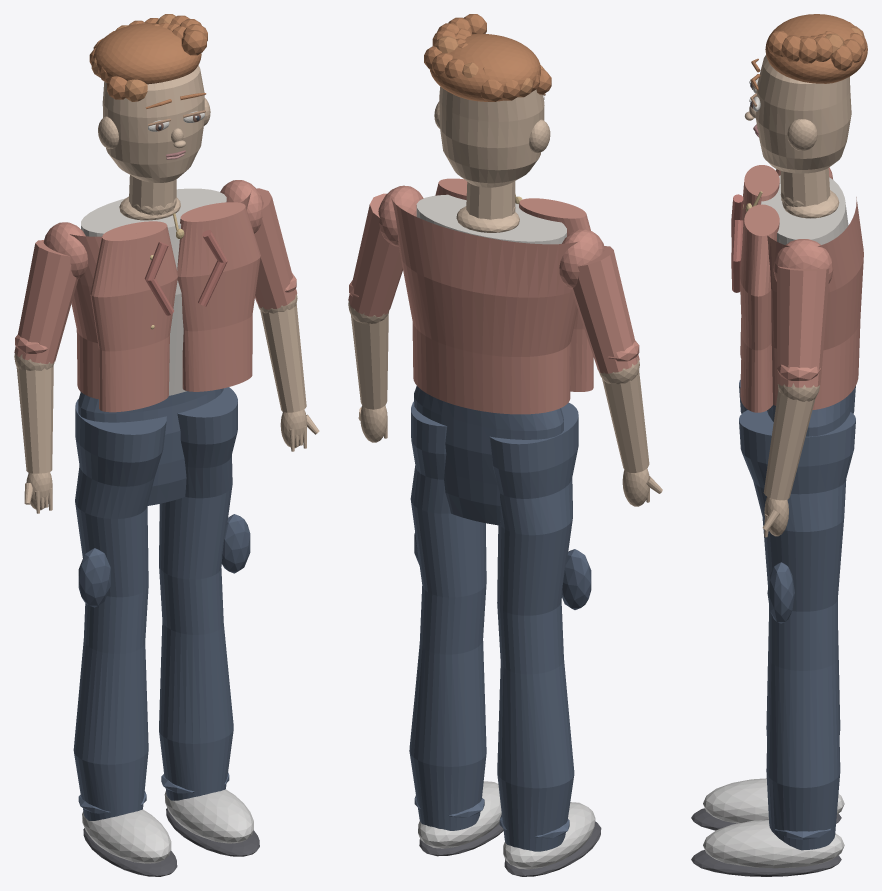
The model's file is remy_model_v1_3.glb.
The picture shows the model from 3 angles, left to right: view 1: azimuth 30°, elevation 25°; view 2: azimuth 150°, elevation 25°; view 3: azimuth 270°, elevation 25°; orthographic projection. The views are drawn at different scales.
Visible parts, largest first — view 1: L_trouser_003, R_trouser_008, L_jacket_panel_014, R_jacket_panel_016, face_skin_043, L_upper_arm_019, hair_cap_064, pelvis_011, inner_top_012, R_shoe_006, L_shoe_001, L_forearm_022 (+14 smaller); view 2: L_trouser_003, jacket_back_shell_013, R_trouser_008, pelvis_011, face_skin_043, L_upper_arm_019, hair_cap_064, R_upper_arm_030, inner_top_012, L_forearm_022, L_jacket_panel_014, R_forearm_033 (+11 smaller); view 3: R_trouser_008, face_skin_043, jacket_back_shell_013, R_jacket_panel_016, R_upper_arm_030, R_shoe_006, R_forearm_033, hair_cap_064, L_shoe_001, inner_top_012, R_sole_007, neck_041 (+18 smaller).
Part boxes in pixels (x1,y1,x2,y2): L_trouser_003: (73, 399, 166, 820); R_trouser_008: (159, 387, 237, 800); L_jacket_panel_014: (90, 221, 177, 412); R_jacket_panel_016: (177, 202, 260, 391); face_skin_043: (102, 65, 204, 182); L_upper_arm_019: (14, 240, 77, 363); hair_cap_064: (93, 23, 201, 84); pelvis_011: (78, 388, 223, 505); inner_top_012: (81, 188, 226, 395); R_shoe_006: (164, 789, 253, 843); L_shoe_001: (82, 809, 171, 863); L_forearm_022: (16, 366, 53, 473); L_trouser_003: (489, 402, 578, 851); jacket_back_shell_013: (391, 198, 577, 414); R_trouser_008: (409, 401, 486, 830); pelvis_011: (414, 385, 563, 525); face_skin_043: (439, 86, 544, 187); L_upper_arm_019: (571, 246, 639, 373); hair_cap_064: (430, 34, 540, 101); R_upper_arm_030: (348, 193, 402, 316); inner_top_012: (416, 194, 566, 244); L_forearm_022: (602, 370, 649, 472); L_jacket_panel_014: (519, 198, 593, 391); R_forearm_033: (351, 312, 388, 409); R_trouser_008: (739, 410, 855, 850); face_skin_043: (755, 55, 851, 173); jacket_back_shell_013: (767, 197, 863, 409); R_jacket_panel_016: (740, 204, 779, 412); R_upper_arm_030: (777, 266, 829, 387); R_shoe_006: (703, 820, 844, 868); R_forearm_033: (763, 389, 815, 500); hair_cap_064: (765, 14, 867, 83); L_shoe_001: (703, 778, 844, 823); inner_top_012: (761, 175, 848, 244); R_sole_007: (691, 850, 841, 876); neck_041: (780, 168, 830, 207).
Bounding box in the file's own units: 0.7055 × 1.84 × 0.3553.
